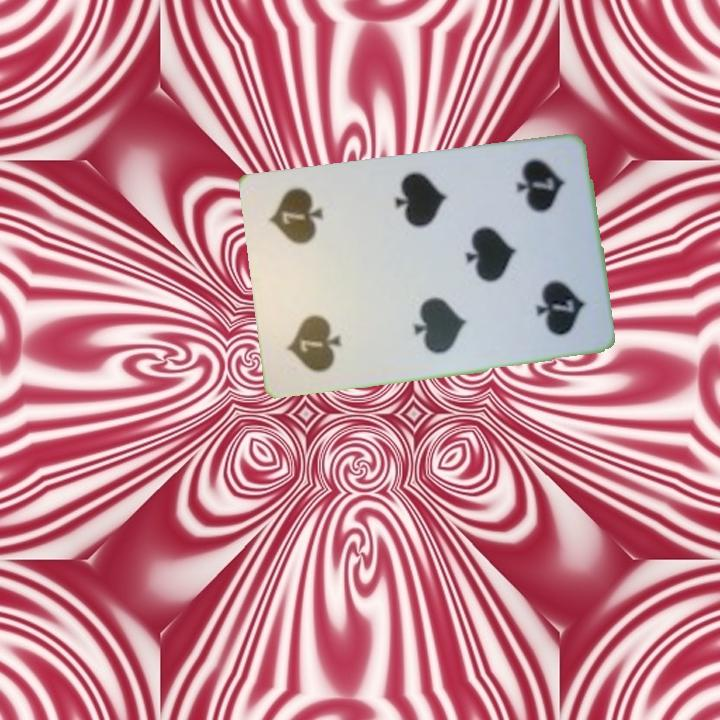s_7.png: (489, 149, 586, 258), (267, 272, 364, 381)
